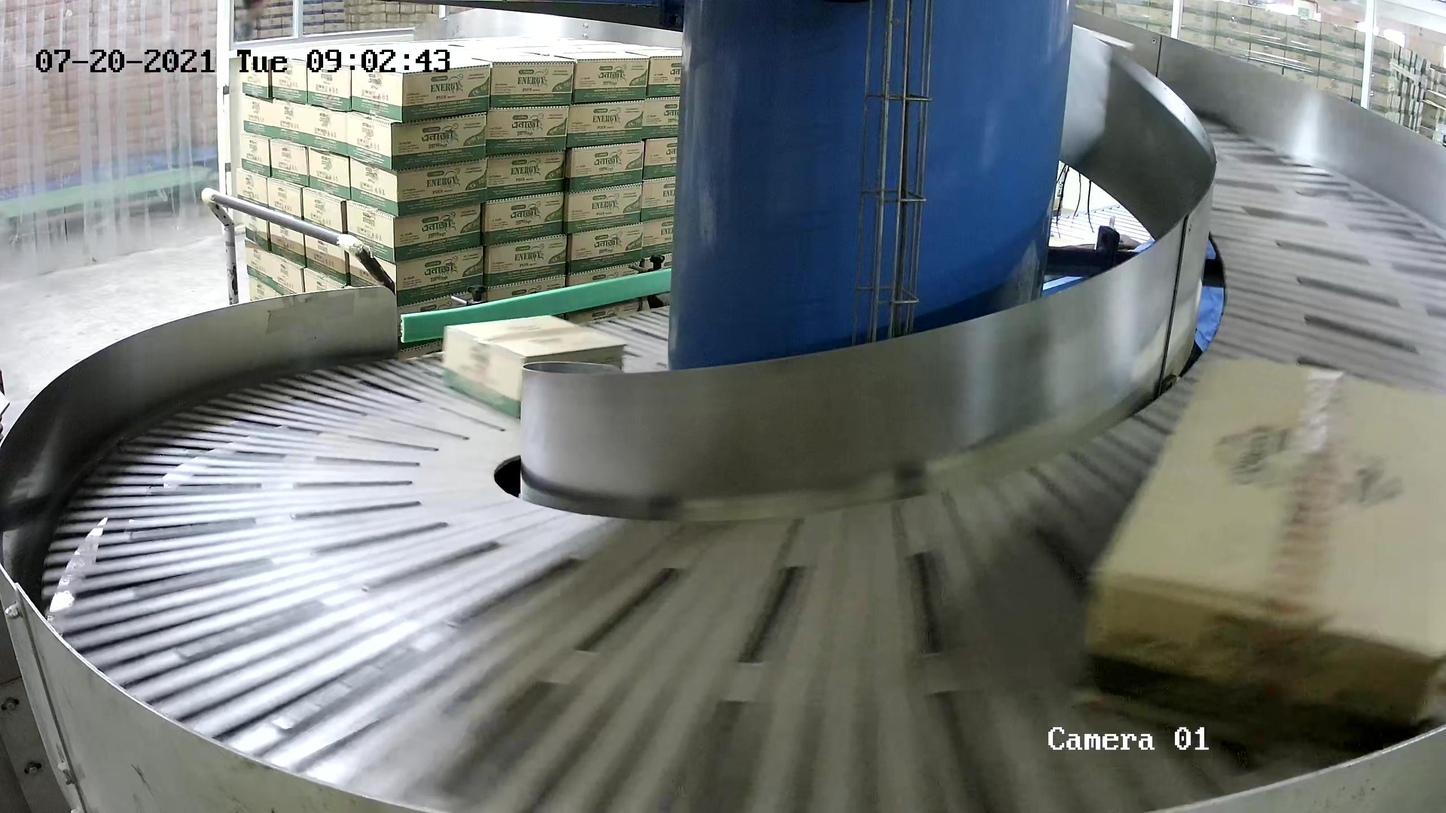Box: (1071, 350, 1446, 770), (443, 313, 628, 419)
